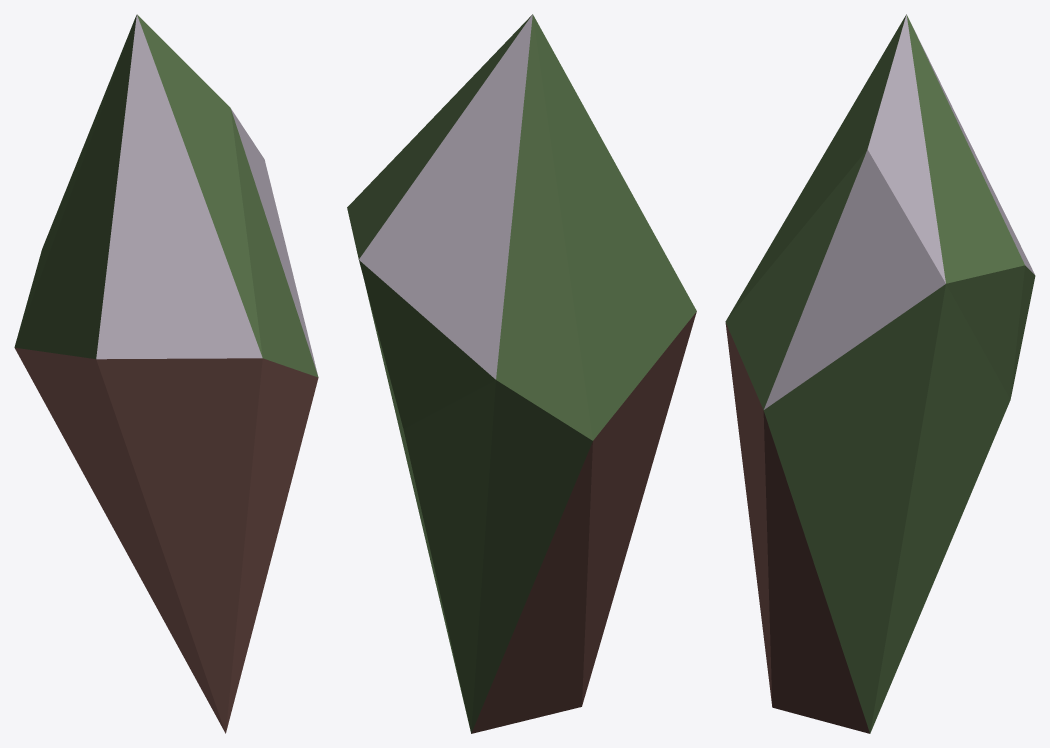
File: PineTree_Snow_4.lod4.glb
The picture shows the model from 3 angles, left to right: view 1: azimuth 30°, elevation 25°; view 2: azimuth 150°, elevation 25°; view 3: azimuth 270°, elevation 25°; orthographic projection. The views are drawn at different scales.
Parts seen in each view (by area): view 1: PineTree_Snow_4; view 2: PineTree_Snow_4; view 3: PineTree_Snow_4.
Boxes of the visible parts, <box> form: PineTree_Snow_4: <box>14,14,318,733</box>; PineTree_Snow_4: <box>347,14,696,733</box>; PineTree_Snow_4: <box>725,14,1035,733</box>.
Bounding box in the file's own units: 1.26 × 3.39 × 1.39.
